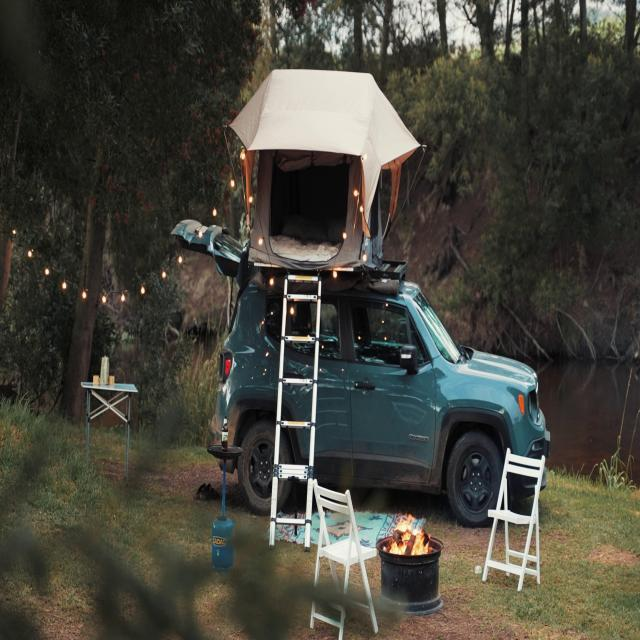Fire: (388, 505, 430, 558)
